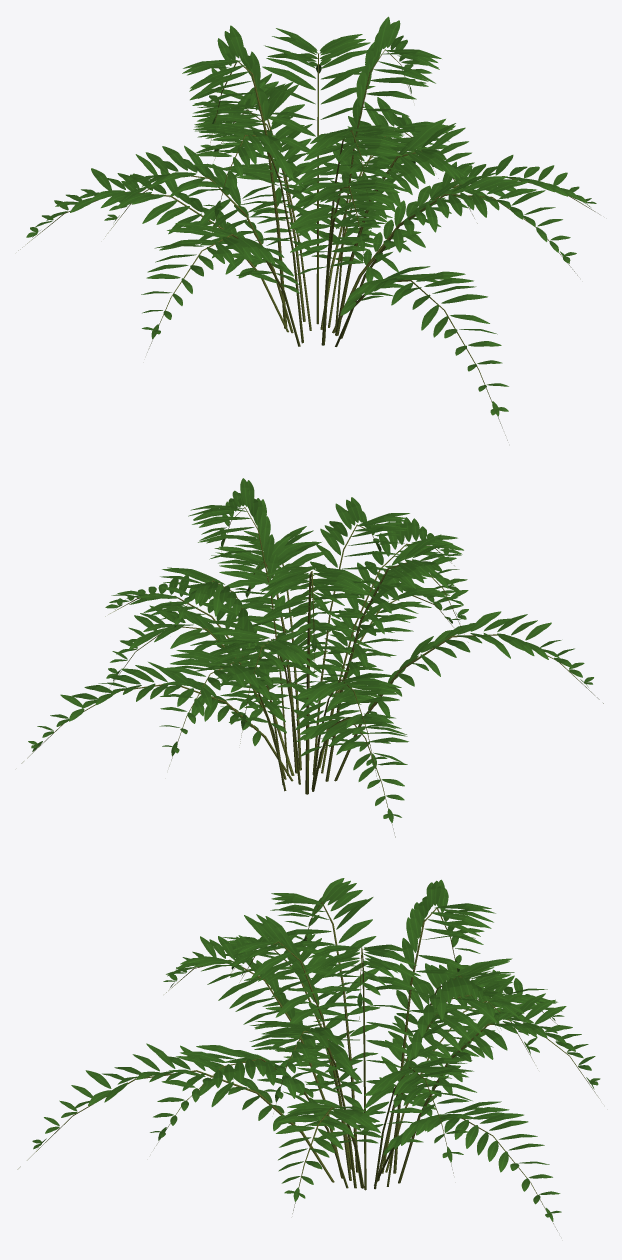
The model's file is hard-fern.glb.
3 renders of one model, top to bottom at view 1: azimuth 30°, elevation 25°; view 2: azimuth 150°, elevation 25°; view 3: azimuth 270°, elevation 25°, orthographic. The views are drawn at different scales.
Visible parts, largest first — view 1: Hard Fern; view 2: Hard Fern; view 3: Hard Fern.
Boxes of the visible parts, x1,y1,x2,y2 form: Hard Fern: (18,16,599,440); Hard Fern: (21,478,603,837); Hard Fern: (17,878,600,1230).
Size of the model in its own units: 0.8335 by 0.4478 by 0.8772.
Materials: 2 (2 with a texture image).
